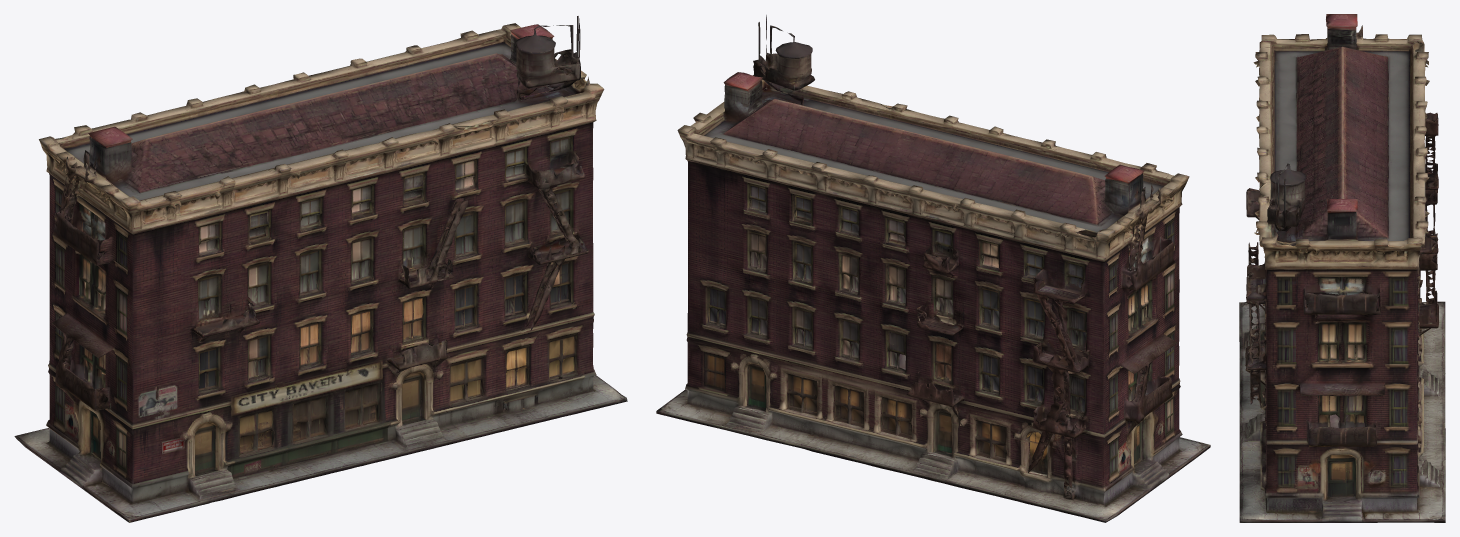
Rendered from Meshy_AI_A_wide_New_York_City__0421173755_texture.fbx.
3 renders of one model, left to right at view 1: azimuth 30°, elevation 25°; view 2: azimuth 150°, elevation 25°; view 3: azimuth 270°, elevation 25°, orthographic. The views are drawn at different scales.
Parts seen in each view (by area): view 1: Mesh_0; view 2: Mesh_0; view 3: Mesh_0.
Boxes of the visible parts, x1,y1,x2,y2 form: Mesh_0: [14, 16, 627, 522]; Mesh_0: [656, 15, 1210, 522]; Mesh_0: [1239, 14, 1445, 522].
Size of the model in its own units: 191 by 139 by 76.43.
1 material, 1 textured.
